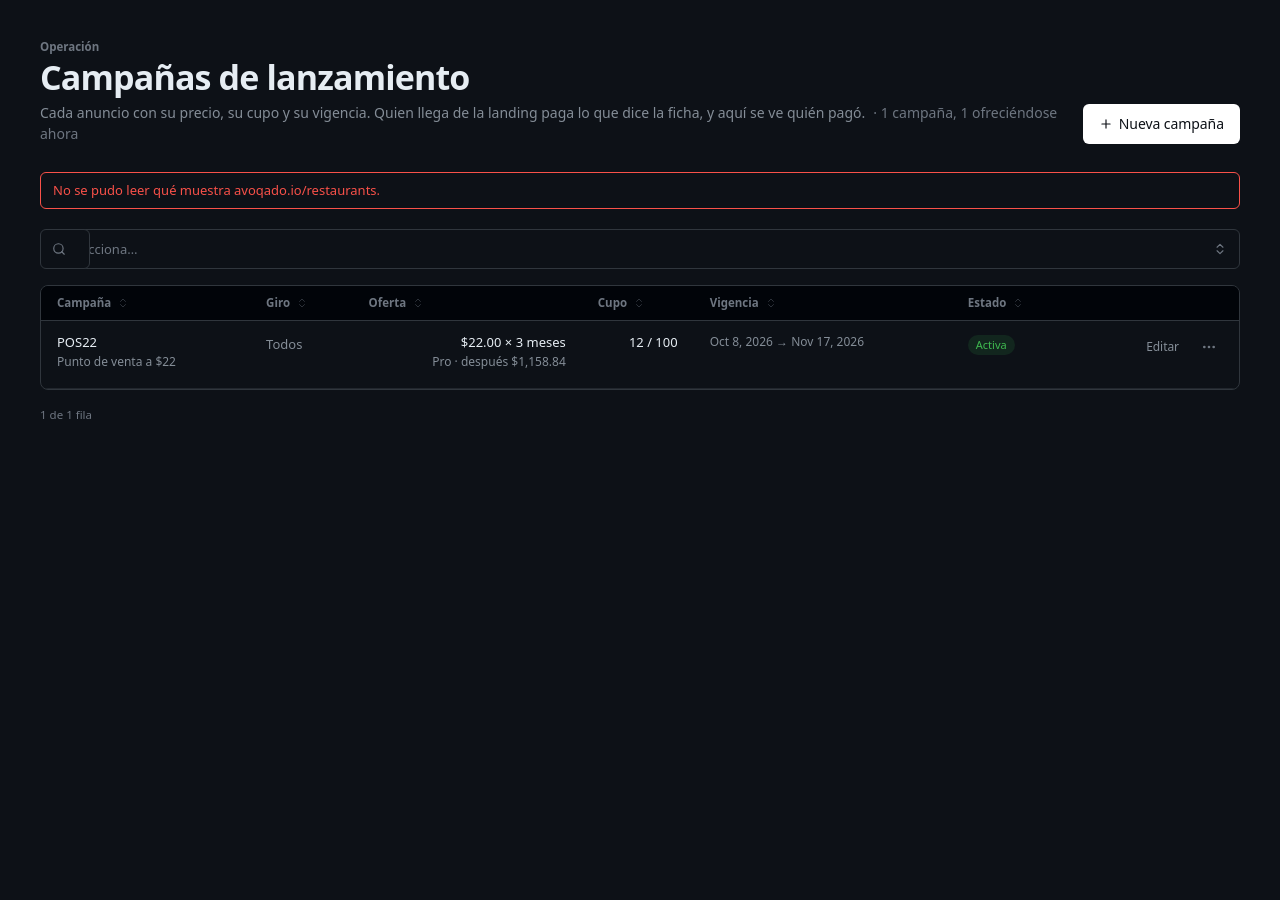
Test case: LaunchCampaignsPage › terminar avisa de que es irreversible y también exige motivo
Expected: the text "POS22" is shown, [57,333,97,353]
Click the button named "Acciones para POS22" at (1209, 347), box [1195,333,1223,361]
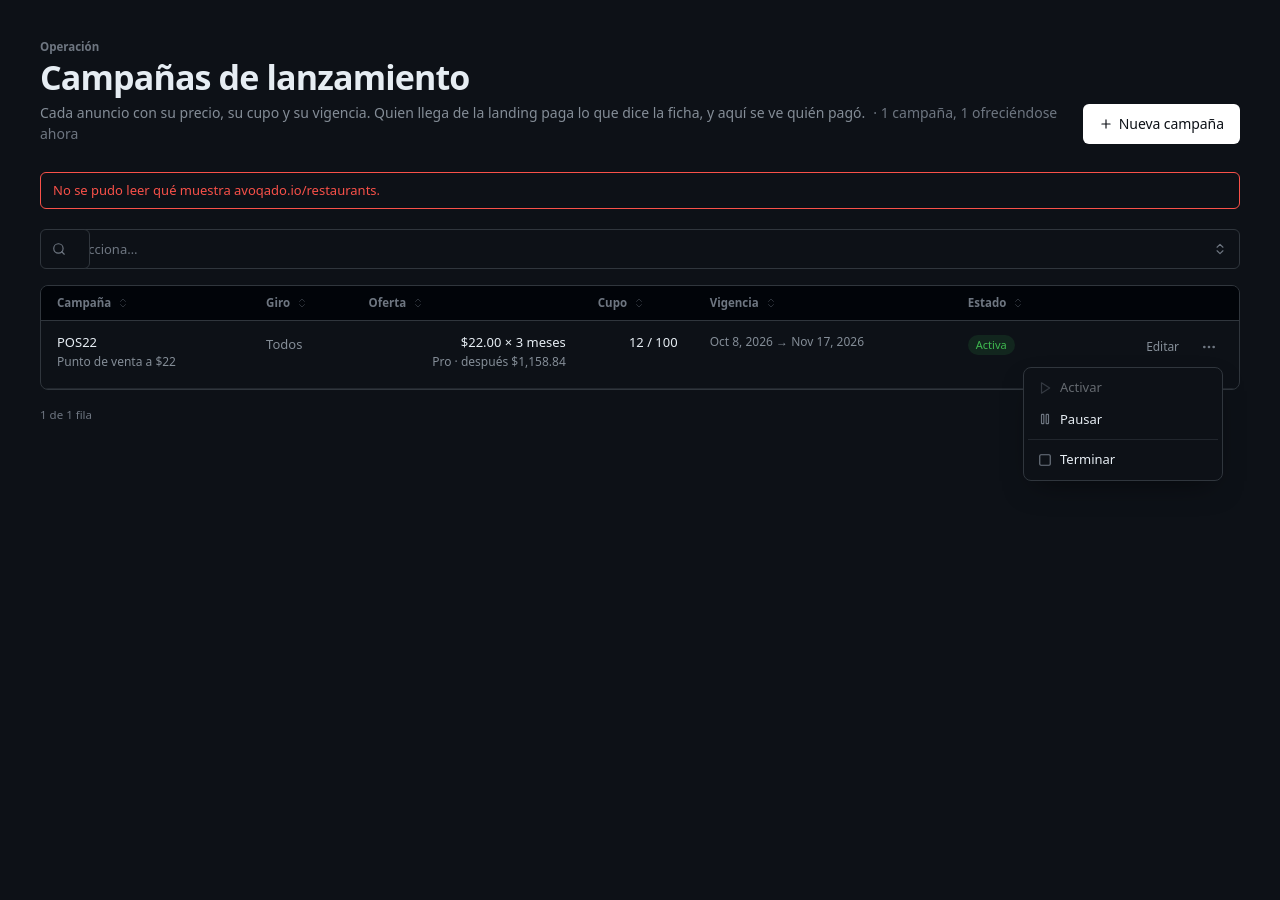
Click the menu item "Terminar" at (1077, 459), box [1038,450,1115,468]
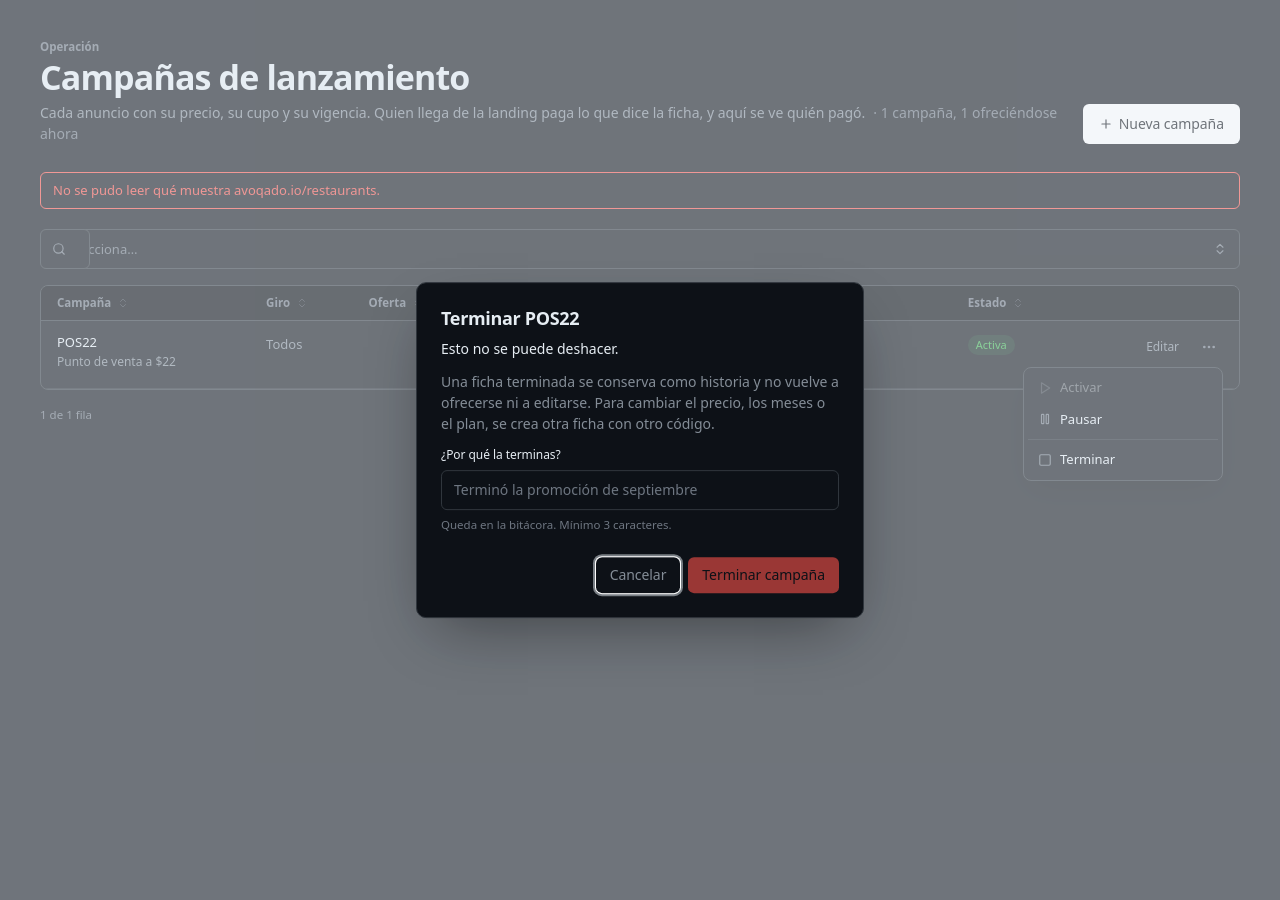
Result: the text "Esto no se puede deshacer." is shown at [441,339,619,358]
Result: the text "otra ficha con otro código" is shown at [441,372,839,433]
Result: the button "Terminar campaña" is disabled at [688,557,839,593]
